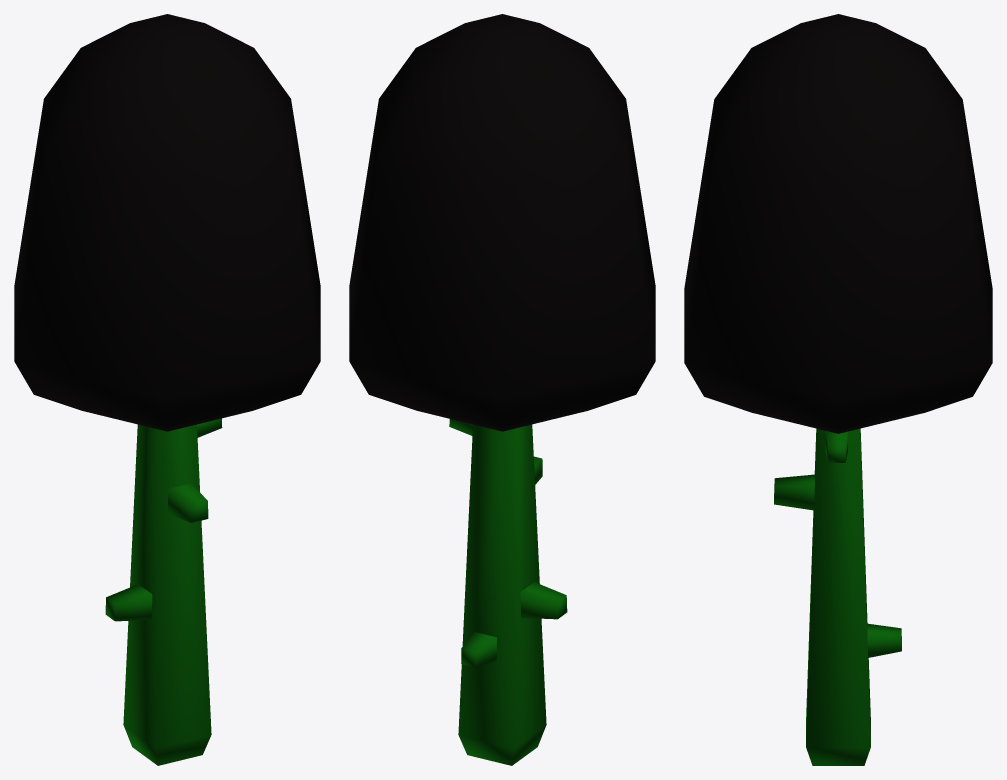
The model's file is Tree-Default.fbx.
3 views of the same model, side by side, from view 1: azimuth 30°, elevation 25°; view 2: azimuth 150°, elevation 25°; view 3: azimuth 270°, elevation 25° (orthographic).
Parts seen in each view (by area): view 1: Tree-Default; view 2: Tree-Default; view 3: Tree-Default.
Part boxes in pixels (x1=…): Tree-Default: x1=14, y1=14, x2=320, y2=765; Tree-Default: x1=349, y1=14, x2=655, y2=765; Tree-Default: x1=684, y1=14, x2=992, y2=765.
Bounding box in the file's own units: 227 × 196 × 512.
